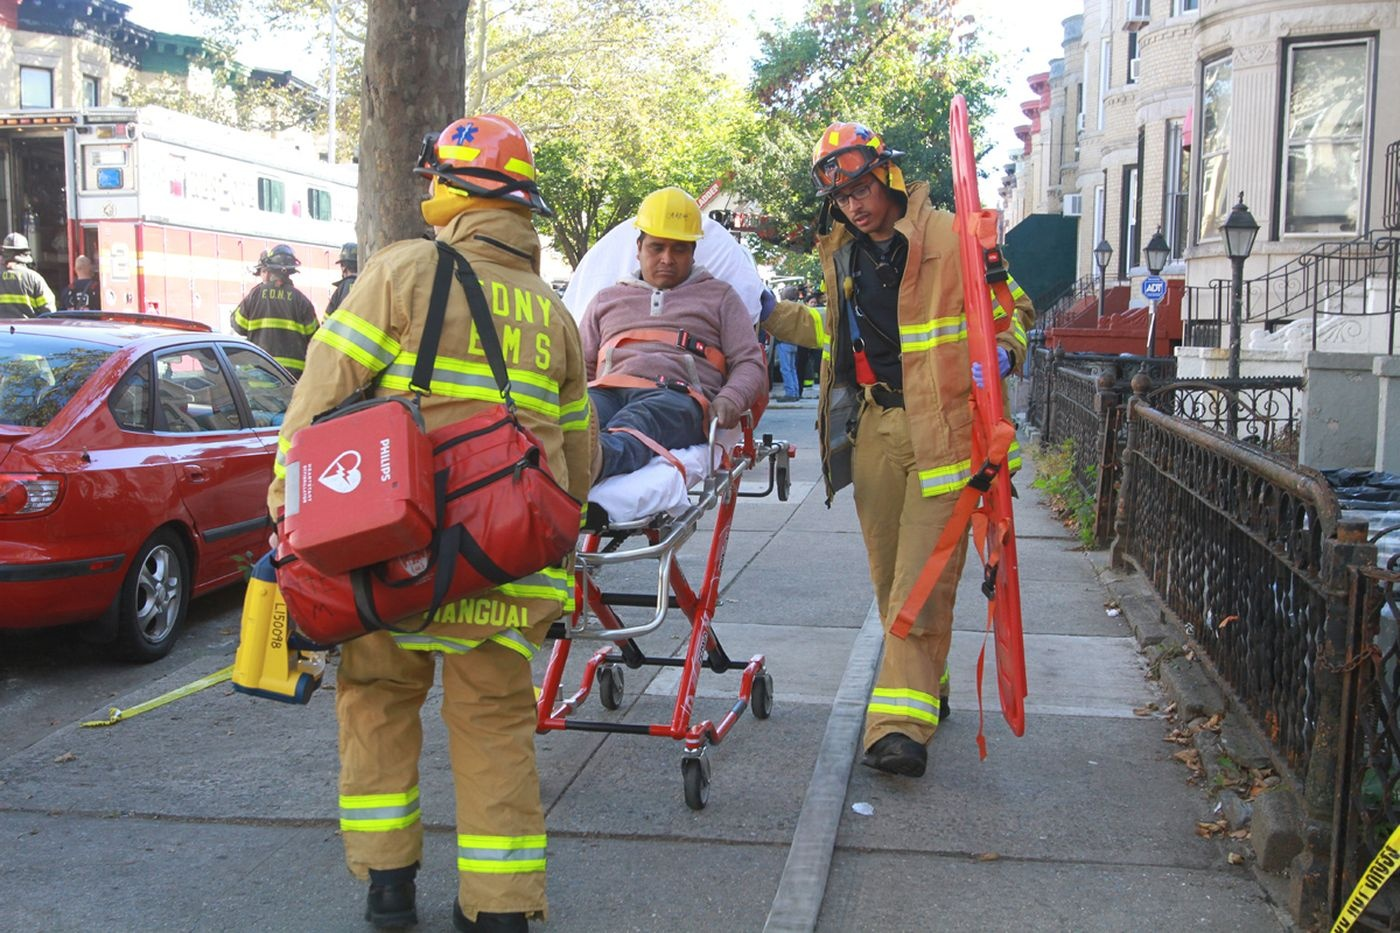none: (803, 292, 818, 308)
red: (424, 110, 539, 239), (807, 119, 893, 235)
yellow: (629, 181, 704, 280)
